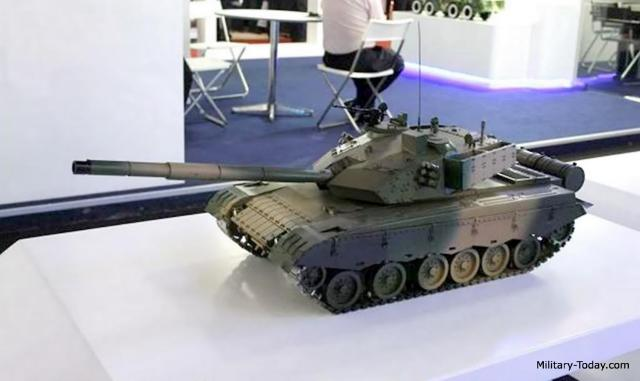other: (320, 0, 408, 108)
tank: (239, 109, 576, 310)
